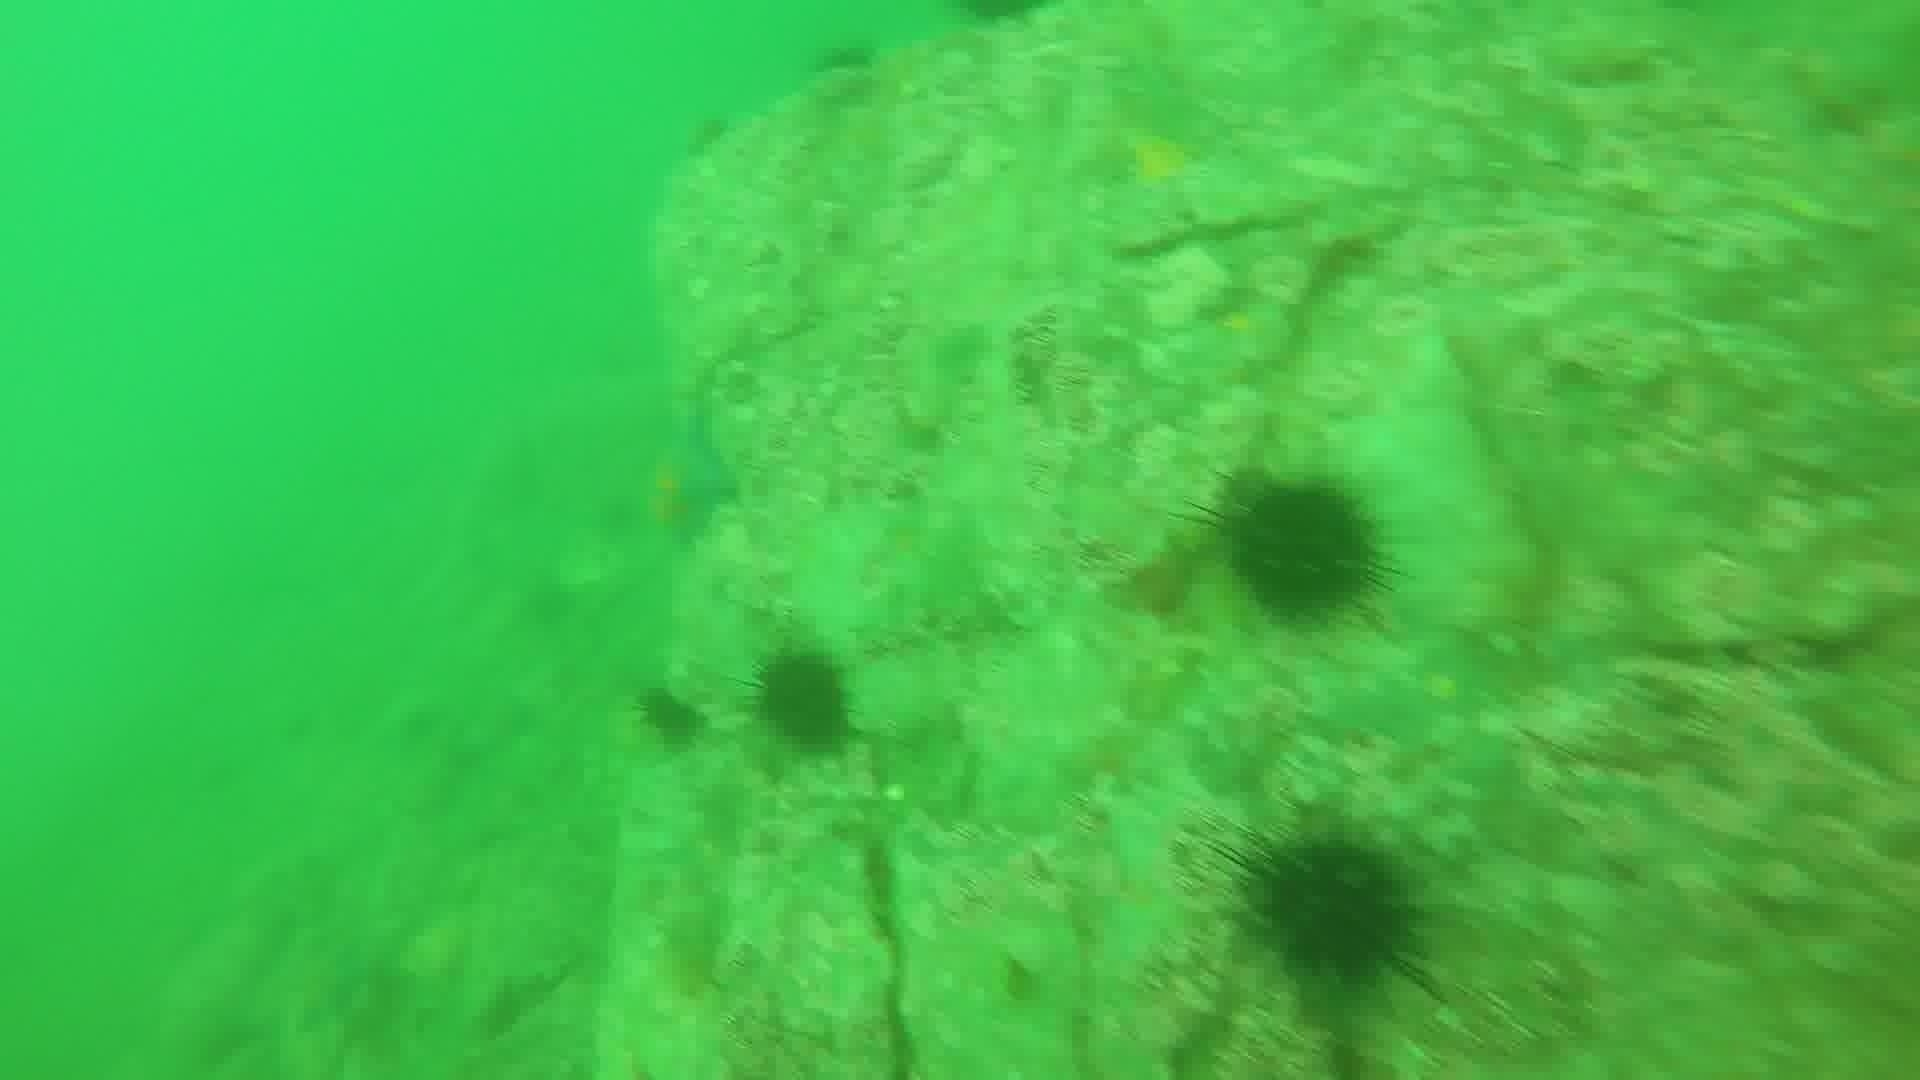echinus: (1230, 819, 1432, 990), (1203, 465, 1395, 626), (746, 646, 858, 758), (629, 680, 709, 753)
starfish: (624, 407, 745, 555)
